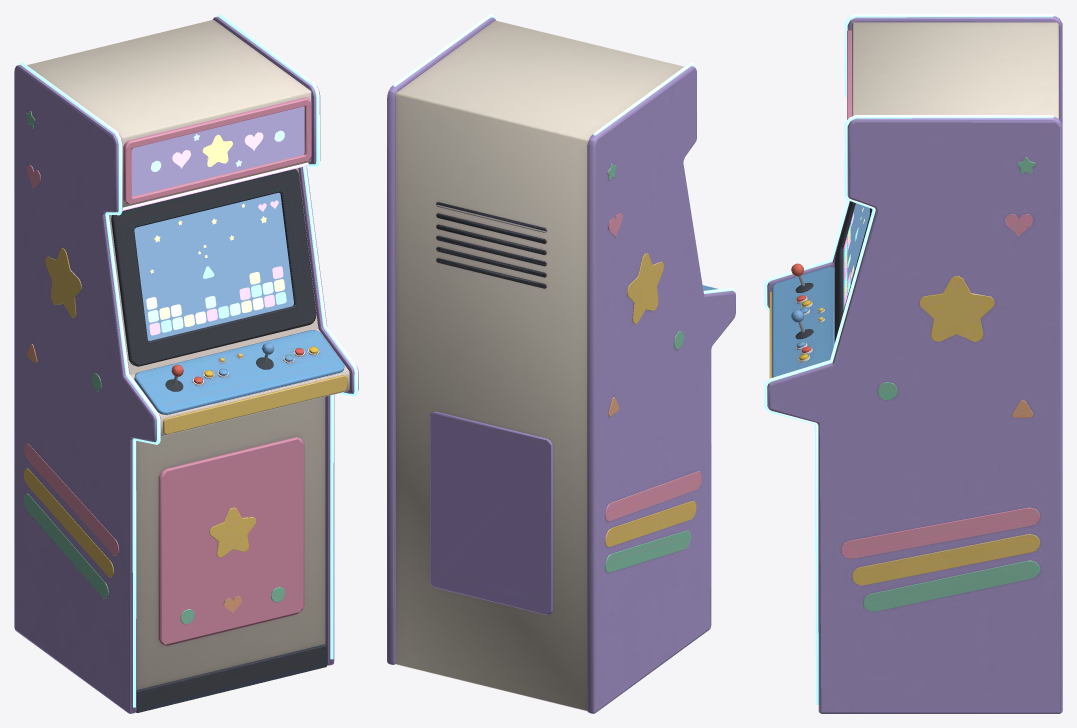
File: maquina_arcade.glb
3 views of the same model, side by side, from view 1: azimuth 30°, elevation 25°; view 2: azimuth 150°, elevation 25°; view 3: azimuth 270°, elevation 25° (orthographic). The views are drawn at different scales.
Visible parts, largest first — view 1: arcade-machine_body; view 2: arcade-machine_body; view 3: arcade-machine_body.
Part boxes in pixels (bbox=[...]): arcade-machine_body: bbox=[14, 14, 358, 713]; arcade-machine_body: bbox=[387, 14, 735, 713]; arcade-machine_body: bbox=[764, 14, 1062, 713].
Bounding box in the file's own units: 0.6851 × 1.81 × 0.8184.
21 materials, 1 textured.
